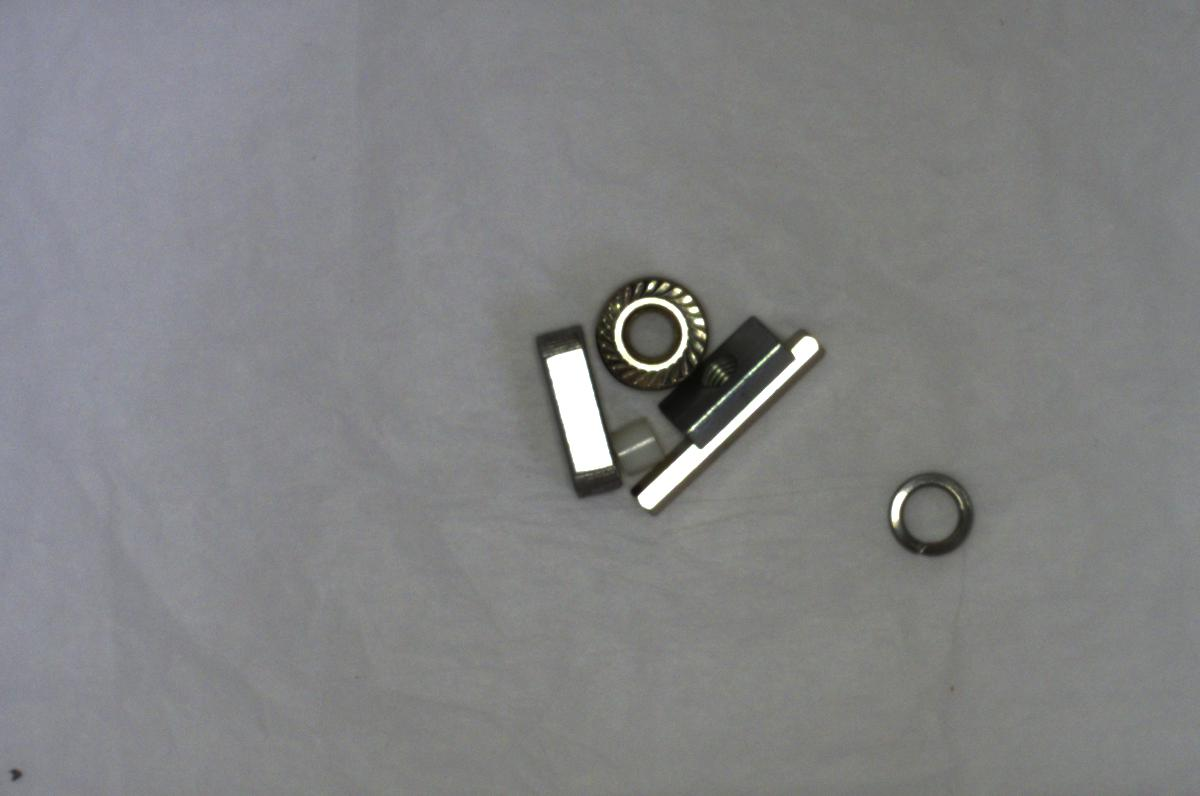Flange nut: (586, 278, 711, 395)
Keybar: (531, 319, 619, 496)
Plastic cushion pillar: (602, 403, 667, 479)
Rectangular nut: (650, 315, 790, 445)
Spring washer: (630, 320, 827, 525), (885, 466, 982, 568)
